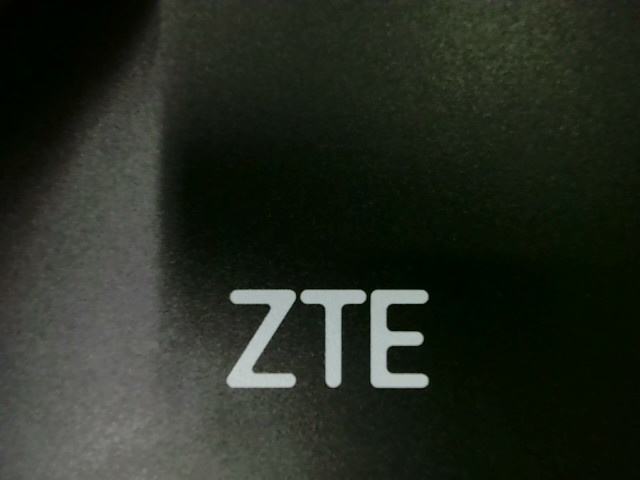AN_ZTE: (212, 282, 435, 392)
